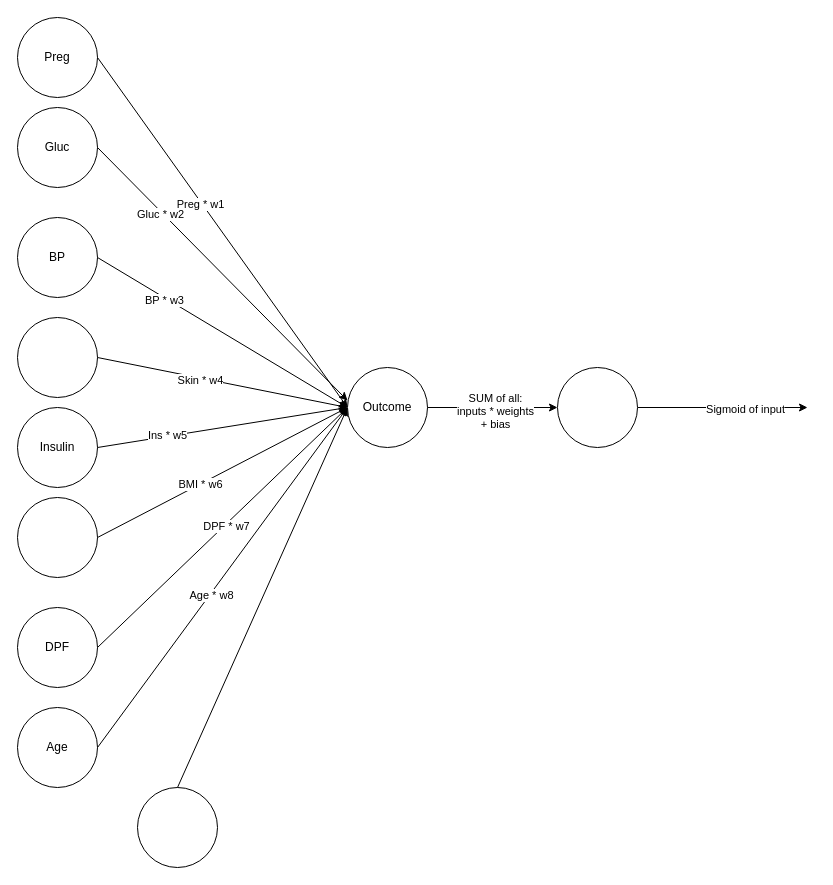
Image size: 833x885. Some labels were removed from this diagram. The centre of each missing label's shape, as x and y in pixels:
Activation: the point at 597,407
Bias: the point at 177,827
BMI: the point at 57,537
Skin: the point at 57,357
